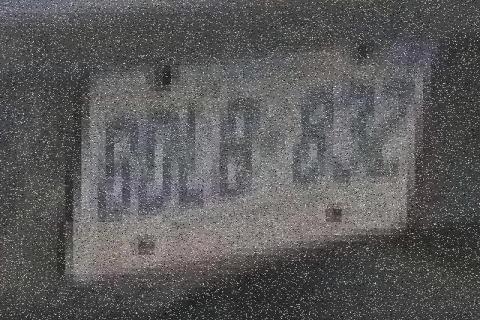LicensePlate: (65, 41, 454, 296)
